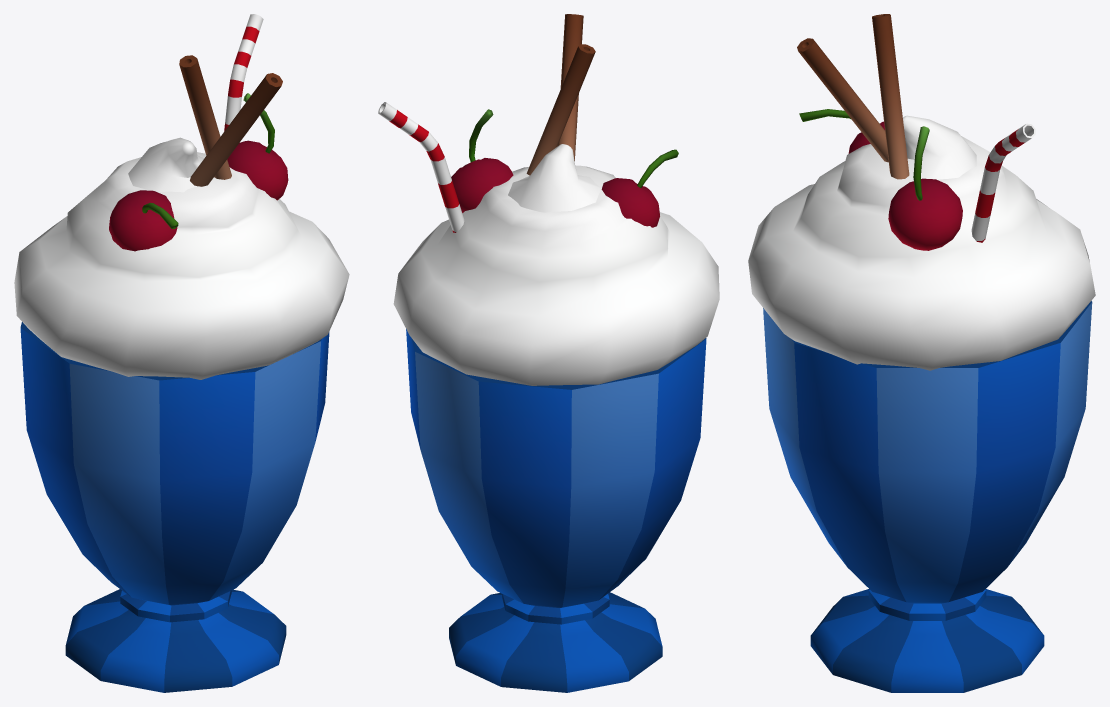
The model's file is Product Milkshake.fbx.
The picture shows the model from 3 angles, left to right: view 1: azimuth 30°, elevation 25°; view 2: azimuth 150°, elevation 25°; view 3: azimuth 270°, elevation 25°; orthographic projection. The views are drawn at different scales.
Parts seen in each view (by area): view 1: Product_Milkshake; view 2: Product_Milkshake; view 3: Product_Milkshake.
Boxes of the visible parts, left/top/right/bottom form: Product_Milkshake: left=14, top=14, right=349, bottom=692; Product_Milkshake: left=378, top=14, right=719, bottom=692; Product_Milkshake: left=748, top=14, right=1095, bottom=692.
Size of the model in its own units: 88.35 by 180 by 90.17.
